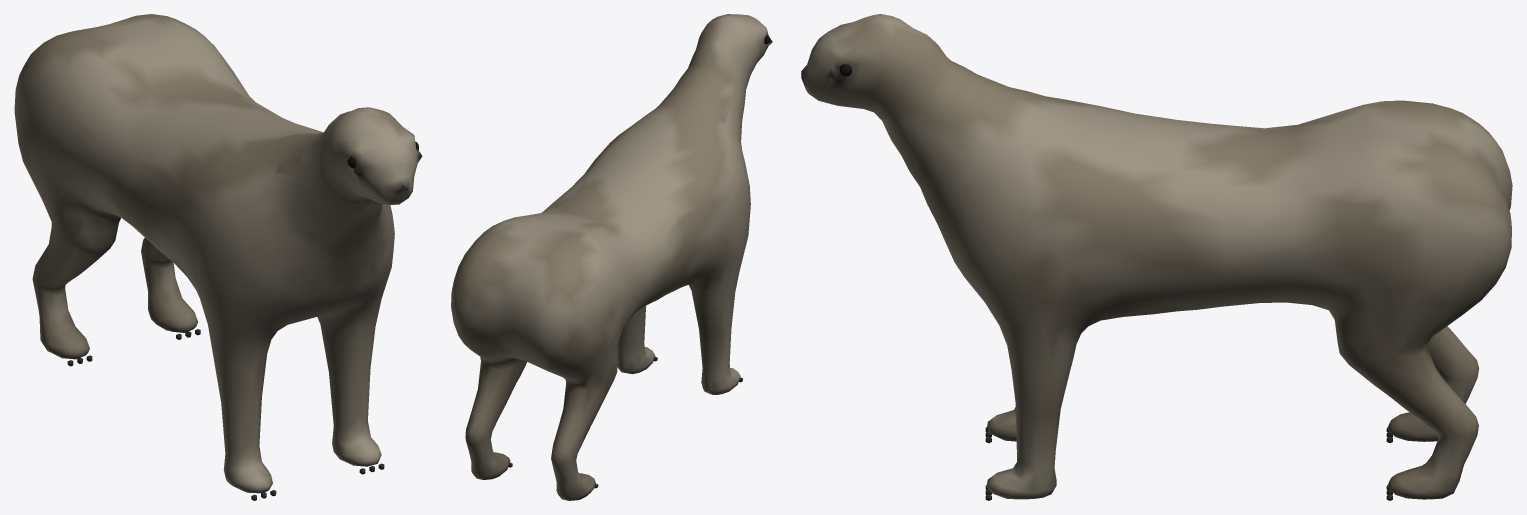
The model's file is faultier.glb.
3 views of the same model, side by side, from view 1: azimuth 30°, elevation 25°; view 2: azimuth 150°, elevation 25°; view 3: azimuth 270°, elevation 25° (orthographic). The views are drawn at different scales.
Visible parts, largest first — view 1: lack; view 2: lack; view 3: lack.
Boxes of the visible parts, left/top/right/bottom form: lack: left=14, top=14, right=422, bottom=500; lack: left=451, top=14, right=772, bottom=500; lack: left=801, top=14, right=1512, bottom=500.
Size of the model in its own units: 0.2073 by 0.4359 by 0.6251.
